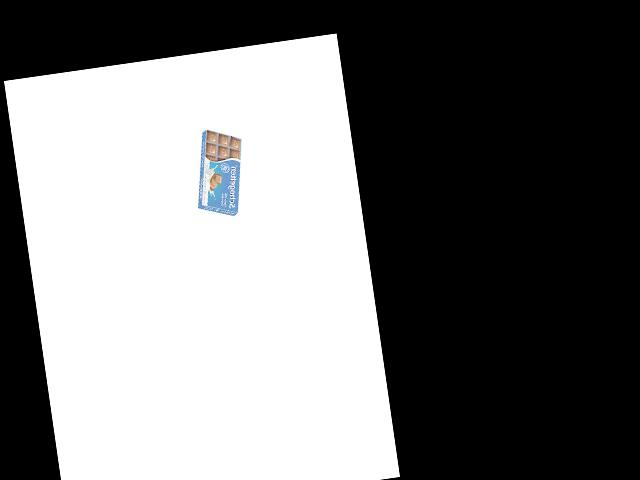chocolate: (194, 123, 252, 221)
